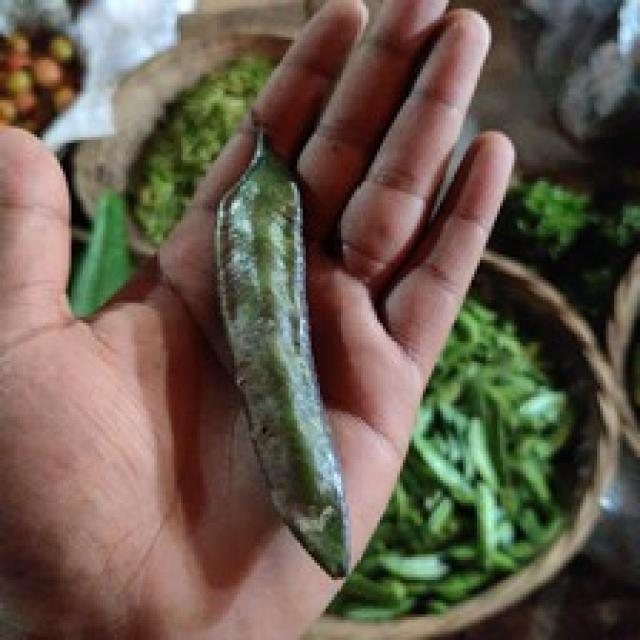Bean: (212, 123, 348, 580)
